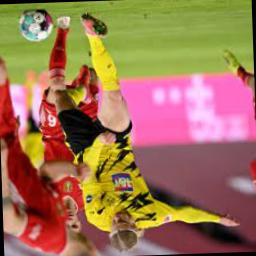football: (17, 8, 53, 44)
